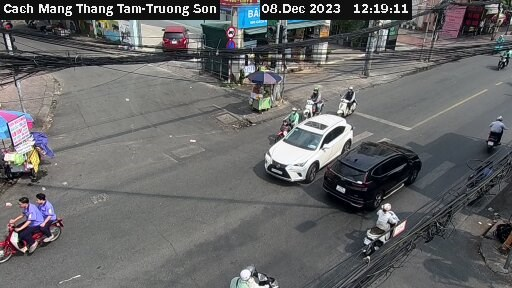car: (325, 135, 419, 204), (264, 112, 343, 184)
motorbike: (1, 196, 67, 256), (363, 206, 413, 259), (225, 259, 289, 288), (332, 85, 374, 120), (478, 113, 508, 155), (294, 86, 337, 111), (272, 102, 300, 133), (492, 45, 512, 72)
